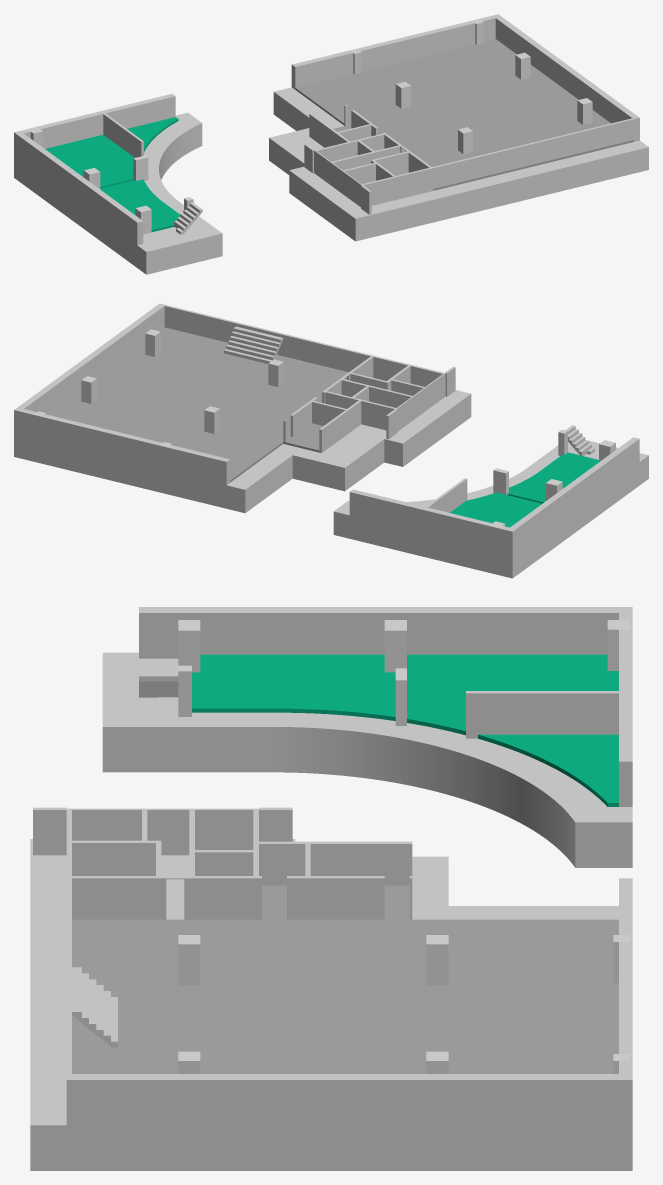
File: storey_00_125.glb
3 views of the same model, one above another, from view 1: azimuth 30°, elevation 25°; view 2: azimuth 150°, elevation 25°; view 3: azimuth 270°, elevation 25° (orthographic). The views are drawn at different scales.
Parts seen in each view (by area): view 1: object 1, 2VwGoYCtPFFeCwjcYkFoS0, 2VwGoYCtPFFeCwjcYkFoSU, 2VwGoYCtPFFeCwjcYkFoS2, 0$gpsvVa5CEBDku6KLM9gB; view 2: object 1, 2VwGoYCtPFFeCwjcYkFoS2, 2VwGoYCtPFFeCwjcYkFoS0, 2VwGoYCtPFFeCwjcYkFoS4, 2VwGoYCtPFFeCwjcYkFoSU; view 3: object 1, 0$gpsvVa5CEBDku6KLM9gD, 2VwGoYCtPFFeCwjcYkFoS4, 2VwGoYCtPFFeCwjcYkFoS0, 0$gpsvVa5CEBDku6KLM9gn.
Boxes of the visible parts, bbox=[...] form: object 1: bbox=[14, 14, 648, 274]; 2VwGoYCtPFFeCwjcYkFoS0: bbox=[395, 81, 410, 108]; 2VwGoYCtPFFeCwjcYkFoSU: bbox=[515, 52, 530, 79]; 2VwGoYCtPFFeCwjcYkFoS2: bbox=[577, 98, 592, 124]; 0$gpsvVa5CEBDku6KLM9gB: bbox=[133, 155, 148, 180]; object 1: bbox=[14, 303, 648, 578]; 2VwGoYCtPFFeCwjcYkFoS2: bbox=[145, 329, 160, 356]; 2VwGoYCtPFFeCwjcYkFoS0: bbox=[204, 406, 219, 433]; 2VwGoYCtPFFeCwjcYkFoS4: bbox=[268, 359, 283, 386]; 2VwGoYCtPFFeCwjcYkFoSU: bbox=[81, 376, 96, 403]; object 1: bbox=[30, 607, 632, 1170]; 0$gpsvVa5CEBDku6KLM9gD: bbox=[384, 620, 406, 672]; 2VwGoYCtPFFeCwjcYkFoS4: bbox=[178, 935, 200, 985]; 2VwGoYCtPFFeCwjcYkFoS0: bbox=[426, 935, 448, 985]; 0$gpsvVa5CEBDku6KLM9gn: bbox=[178, 620, 200, 672].
Size of the model in its own units: 40.1 by 3.6 by 21.61.
